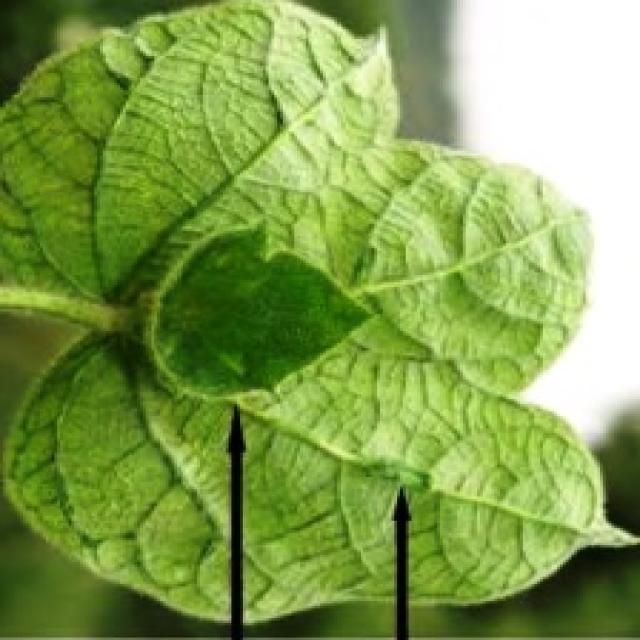Leaf Curl Virus: (47, 111, 500, 560)
